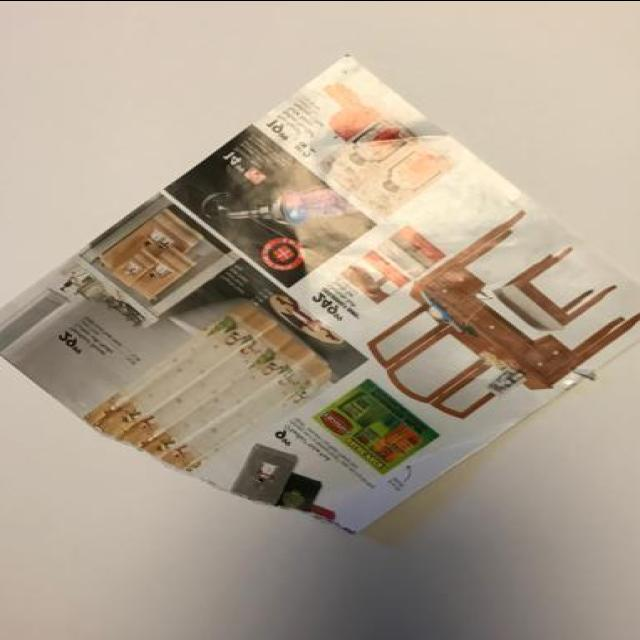kertas: (0, 50, 640, 555)
